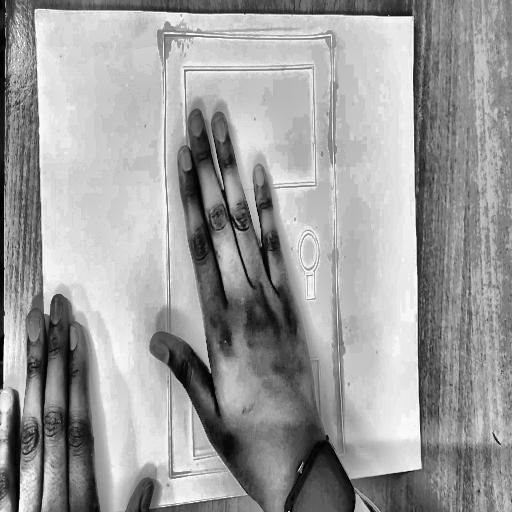bottom_right: (419, 464, 424, 471)
door: (160, 21, 350, 485)
top_left: (33, 5, 38, 14)
top_right: (412, 13, 416, 22)
